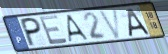2: (83, 11, 108, 40)
A: (126, 7, 151, 38), (66, 14, 91, 44)
E: (37, 13, 70, 46)
P: (20, 17, 43, 49)
V: (97, 7, 123, 40)
